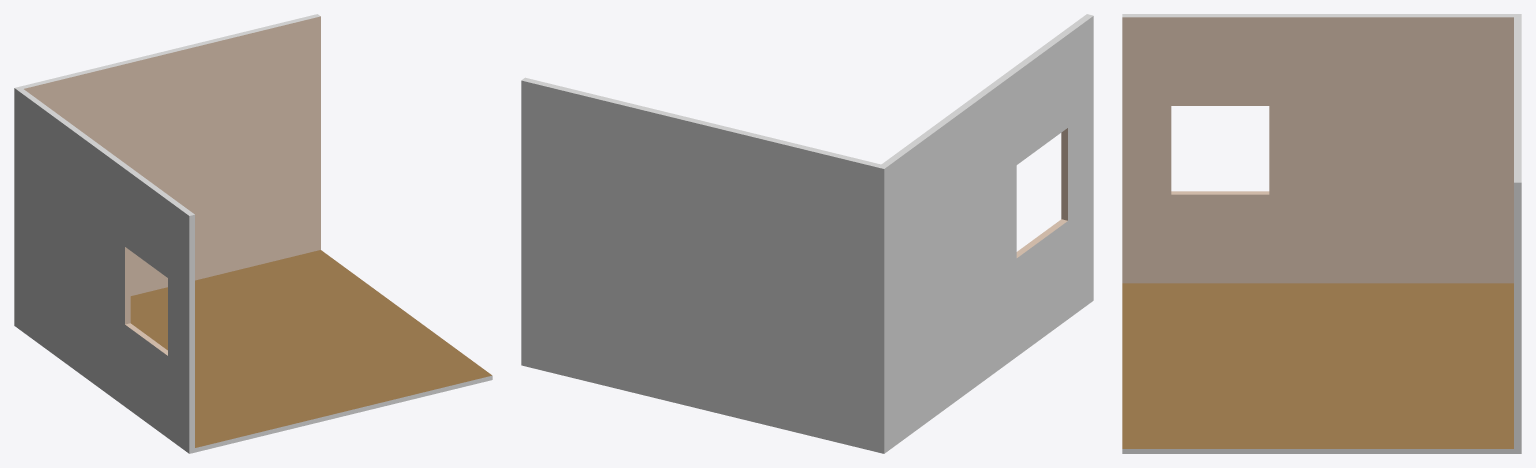
File: Room_1.fbx
The picture shows the model from 3 angles, left to right: view 1: azimuth 30°, elevation 25°; view 2: azimuth 150°, elevation 25°; view 3: azimuth 270°, elevation 25°; orthographic projection. The views are drawn at different scales.
Parts seen in each view (by area): view 1: Room; view 2: Room; view 3: Room.
Part boxes in pixels (x1,y1,x2,y2): Room: (14,14,492,453); Room: (521,14,1093,453); Room: (1122,14,1521,453).
Bounding box in the file's own units: 1631 × 1223 × 1631.
